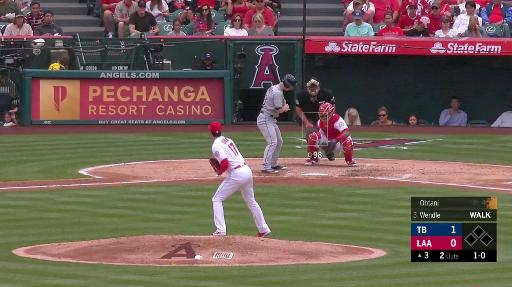pitcher: (207, 121, 272, 238)
